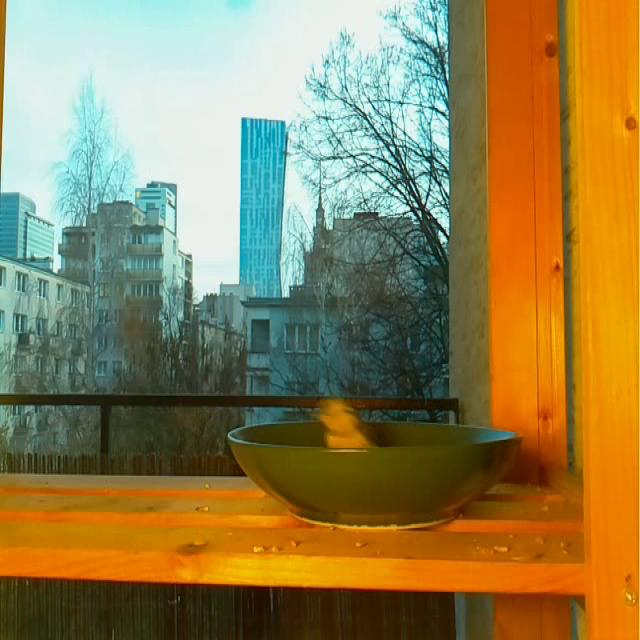Modraszka: (322, 394, 381, 454)
